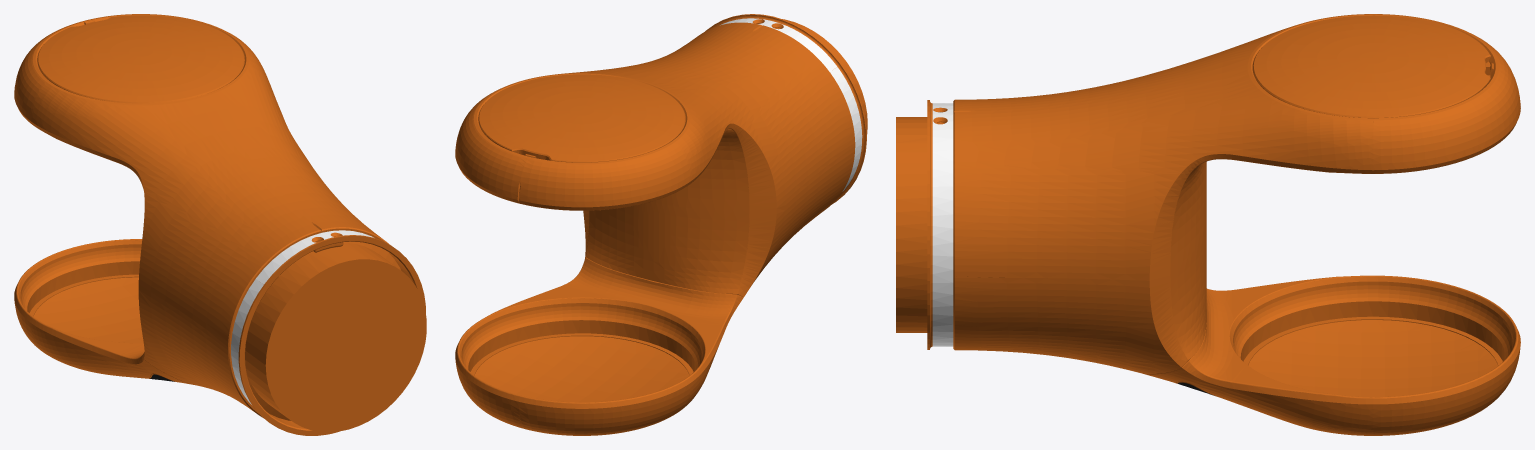
The picture shows the model from 3 angles, left to right: view 1: azimuth 30°, elevation 25°; view 2: azimuth 150°, elevation 25°; view 3: azimuth 270°, elevation 25°; orthographic projection. The views are drawn at different scales.
Visible parts, largest first — view 1: AR5-5_08L-W4C4A6-ZY2_link2; view 2: AR5-5_08L-W4C4A6-ZY2_link2; view 3: AR5-5_08L-W4C4A6-ZY2_link2.
Part boxes in pixels (bbox=[...]): AR5-5_08L-W4C4A6-ZY2_link2: bbox=[14, 14, 426, 435]; AR5-5_08L-W4C4A6-ZY2_link2: bbox=[455, 14, 867, 435]; AR5-5_08L-W4C4A6-ZY2_link2: bbox=[896, 14, 1520, 435].
Bounding box in the file's own units: 0.1132 × 0.1417 × 0.2397.
